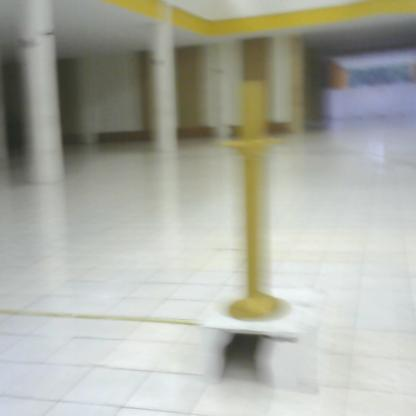pole: (216, 77, 296, 328)
